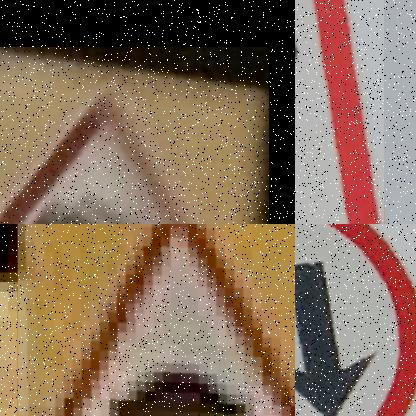Cross Roads: (295, 0, 381, 224)
Road Divides: (295, 224, 416, 416)
Speed Breaker Ahead: (19, 224, 295, 416)
Steep Descent: (0, 53, 269, 224)
